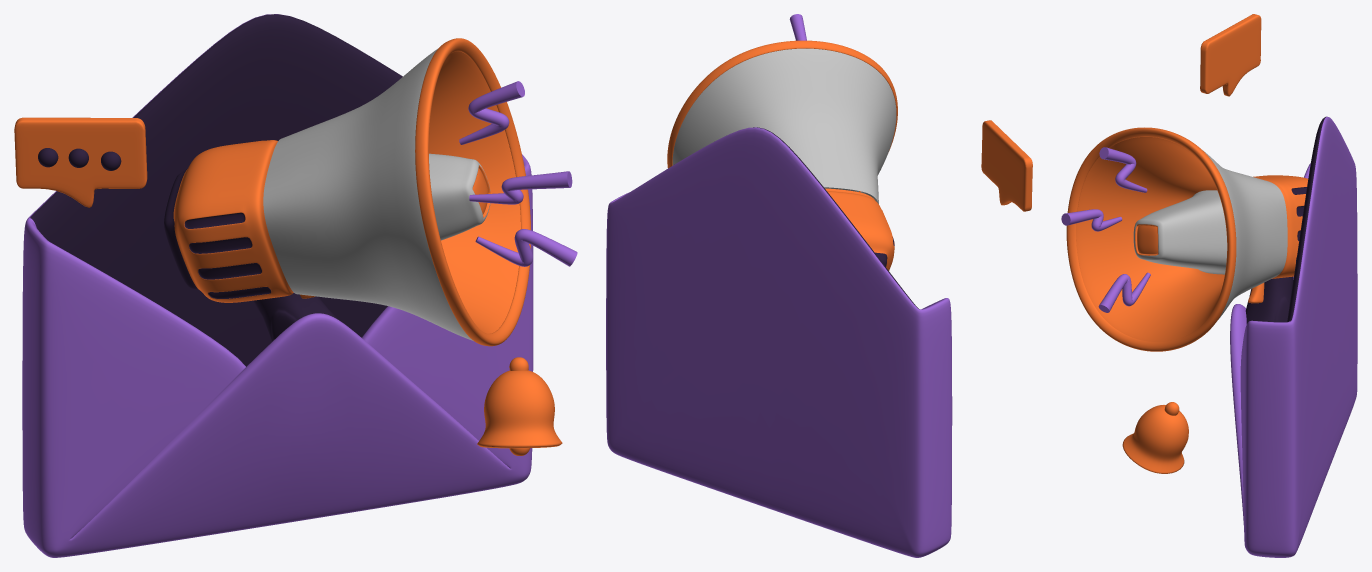
Rendered from email-marketing-3d-animated-icon-938753245097.glb.
3 renders of one model, left to right at view 1: azimuth 30°, elevation 25°; view 2: azimuth 150°, elevation 25°; view 3: azimuth 270°, elevation 25°, orthographic. The views are drawn at different scales.
Visible parts, largest first — view 1: Envelope, Megaphone Speaker, Megaphone Body, Chat Box, Bell, Sound Line 3, Sound Line 1, Sound Line 2; view 2: Envelope, Megaphone Speaker, Chat Box, Megaphone Body; view 3: Megaphone Speaker, Envelope, Megaphone Body, Chat Box, Bell, Sound Line 3, Sound Line 1, Sound Line 2.
Part boxes in pixels (left/top/right/bottom): Envelope: left=22, top=14, right=533, bottom=557; Megaphone Speaker: left=263, top=38, right=530, bottom=346; Megaphone Body: left=164, top=140, right=339, bottom=341; Chat Box: left=14, top=117, right=147, bottom=207; Bell: left=477, top=357, right=562, bottom=455; Sound Line 3: left=475, top=229, right=577, bottom=266; Sound Line 1: left=459, top=81, right=524, bottom=144; Sound Line 2: left=469, top=171, right=572, bottom=204; Envelope: left=606, top=127, right=952, bottom=557; Megaphone Speaker: left=667, top=40, right=897, bottom=203; Chat Box: left=981, top=120, right=1032, bottom=211; Megaphone Body: left=825, top=188, right=894, bottom=270; Megaphone Speaker: left=1066, top=127, right=1287, bottom=351; Envelope: left=1230, top=116, right=1357, bottom=557; Megaphone Body: left=1245, top=175, right=1308, bottom=323; Chat Box: left=1200, top=14, right=1261, bottom=96; Bell: left=1122, top=402, right=1188, bottom=473; Sound Line 3: left=1098, top=272, right=1150, bottom=312; Sound Line 1: left=1099, top=147, right=1147, bottom=192; Sound Line 2: left=1061, top=209, right=1122, bottom=231.
Size of the model in its own units: 1.87 by 1.73 by 1.23.
